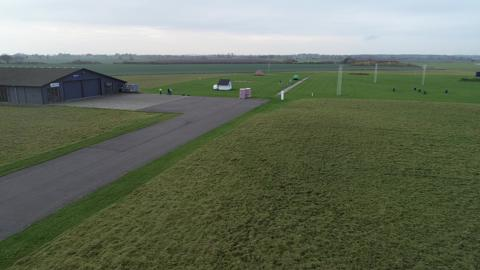RockwoolPallet: (245, 87, 252, 98)
